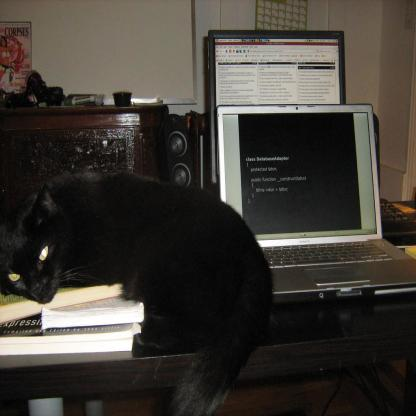board: (214, 106, 416, 304)
